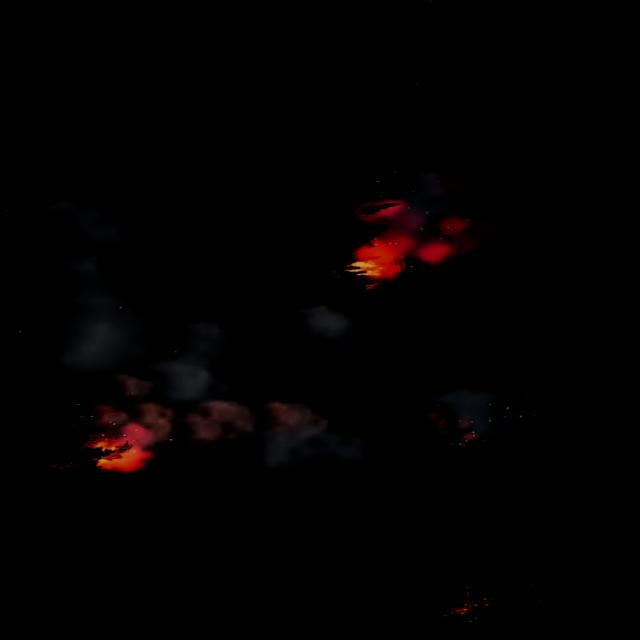fire: (78, 422, 155, 478), (338, 238, 403, 290), (355, 196, 407, 223), (442, 596, 498, 621)
smoke: (2, 86, 379, 497), (352, 112, 634, 278), (420, 379, 536, 452), (288, 300, 371, 364)
